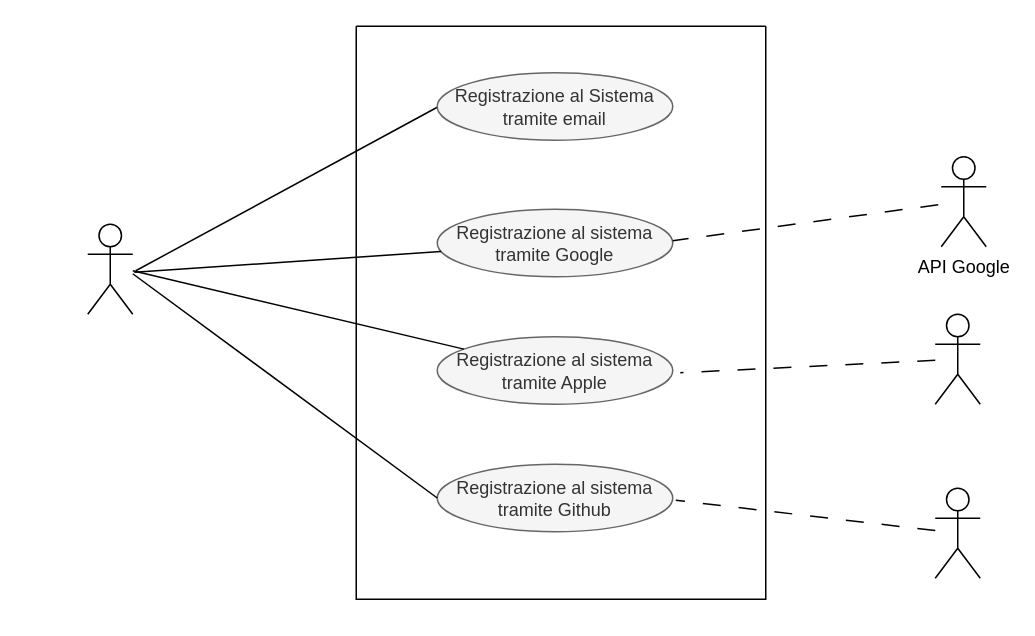
Some shapes in this 1035 by 636 pixel diagram are drawn without their labels. The centre of each missing label's shape, as x and y in pixels:
API Apple: the point at 957,358
API Github: the point at 957,532
Utente non registrato: the point at 109,268
